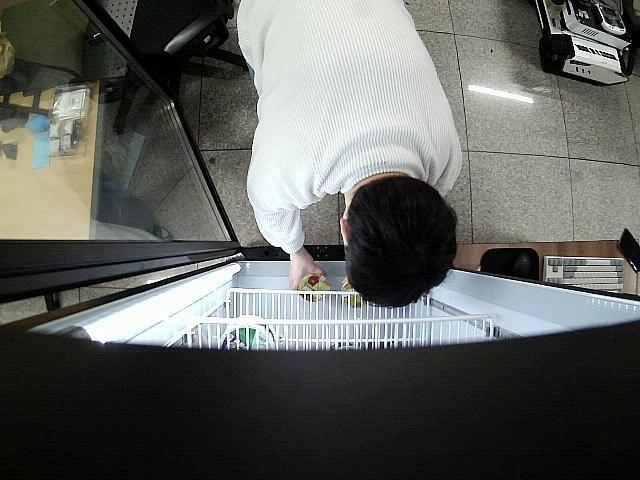04_chapagetti_S: (295, 274, 328, 302), (342, 282, 365, 310)
